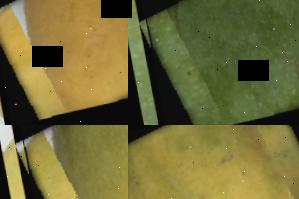PartiallyRipe: (128, 125, 299, 199), (15, 125, 128, 199)
Ripe: (0, 0, 128, 125)
Unripe: (138, 0, 299, 125)
